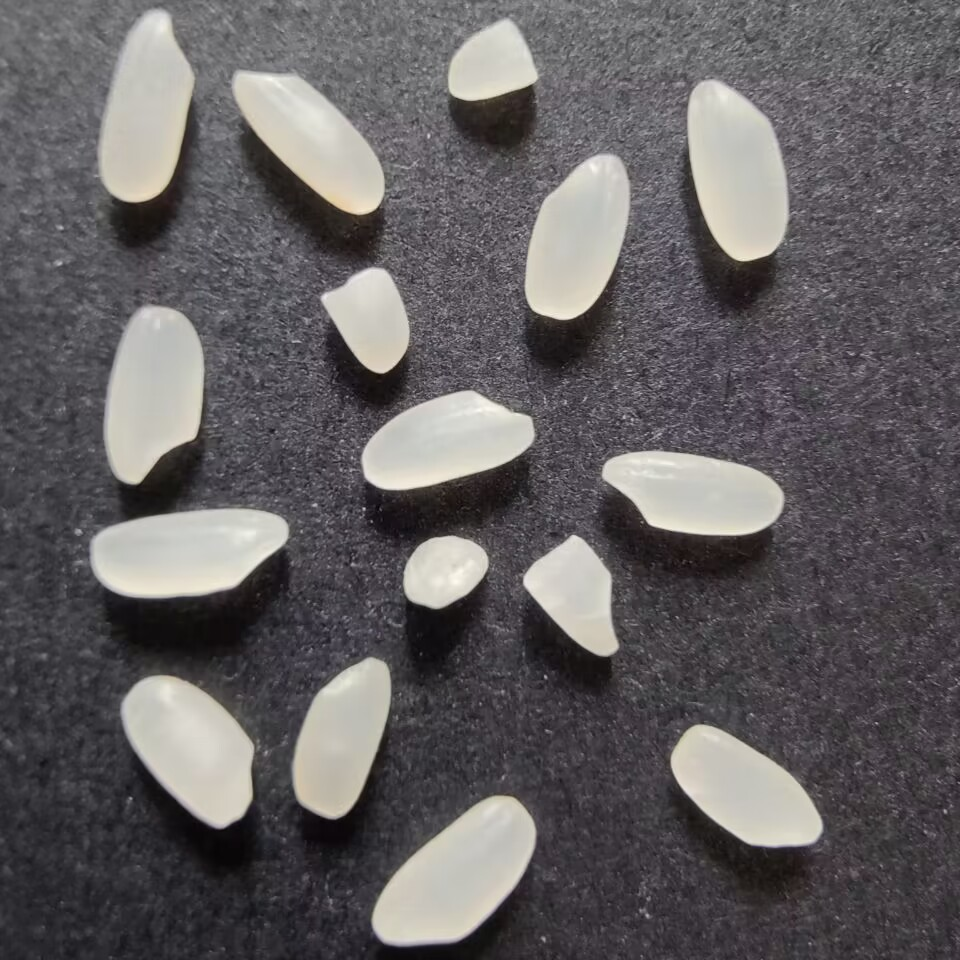broken: (515, 531, 625, 661), (311, 264, 415, 377), (442, 15, 543, 107), (396, 531, 491, 617)
rice: (366, 789, 540, 952), (227, 64, 391, 219), (114, 672, 263, 835), (662, 719, 828, 854), (95, 5, 202, 211), (350, 382, 541, 495), (86, 503, 295, 604), (684, 72, 793, 262), (103, 303, 210, 496), (520, 147, 634, 324), (596, 449, 790, 538), (290, 657, 392, 825)
